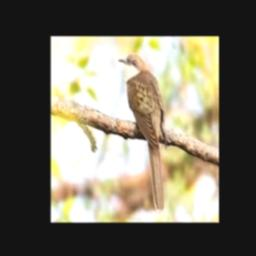Cuckoo: (118, 53, 166, 212)
